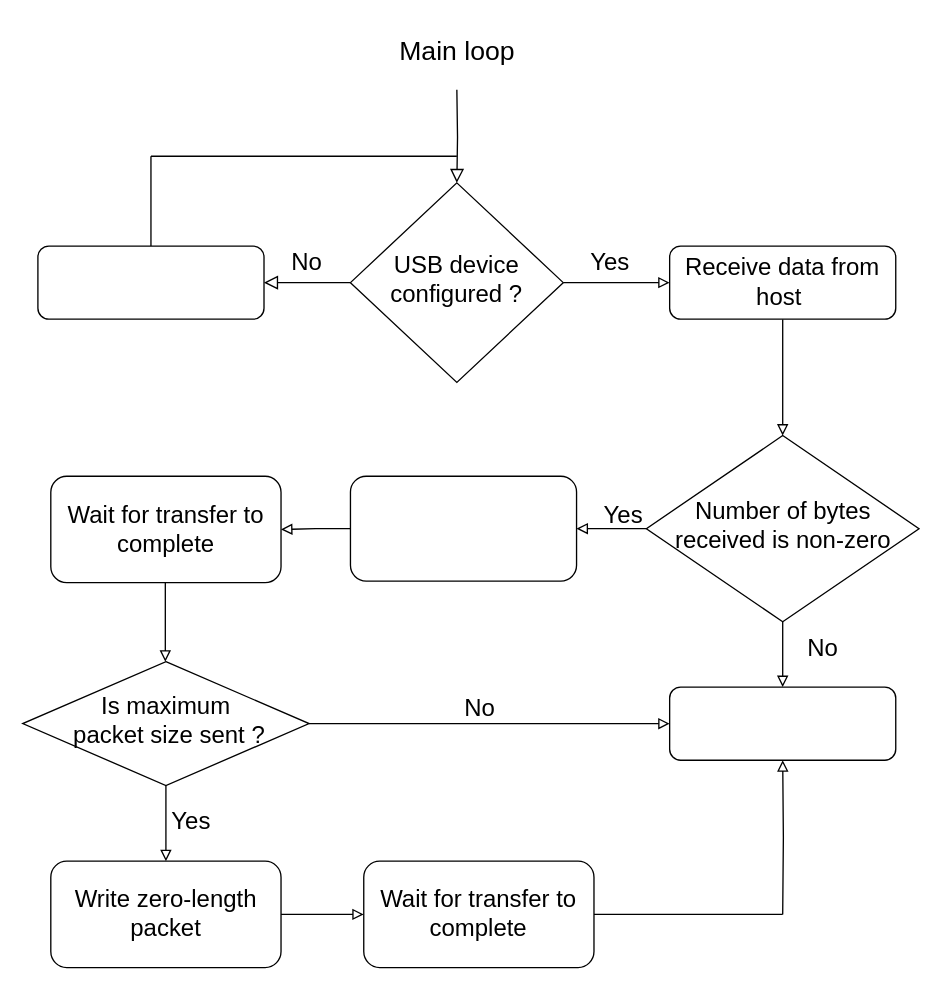
This 943x991 diagram has some shape labels left out. The shapes that lost their labels are listed below. From the top down, each one's centre as x and y in pixels, then its label:
At point (150, 282): "Wait for 50 ms".
At point (463, 528): "Write the number of bytes received".
At point (782, 723): "Got to sleep".
